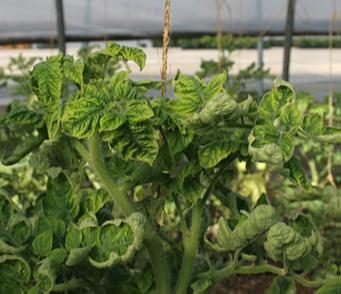Tomato leaf yellow virus: (166, 64, 232, 140), (80, 212, 159, 267), (64, 84, 140, 138), (0, 178, 36, 249), (194, 132, 253, 168)
